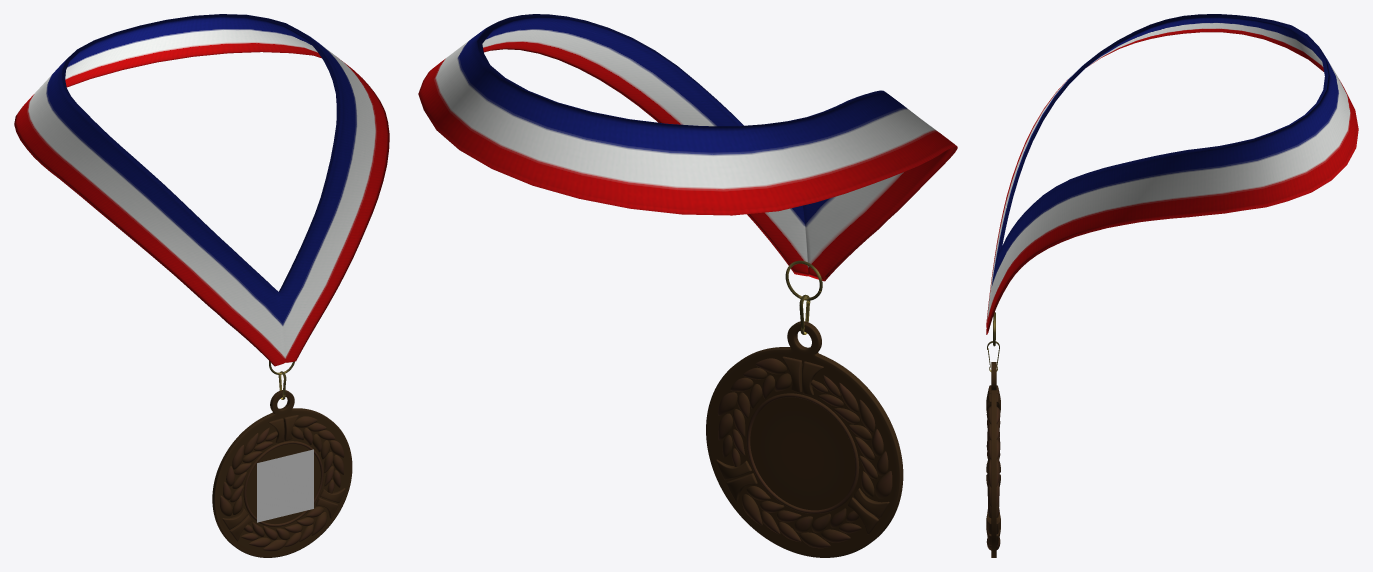
The model's file is medal.fbx.
3 views of the same model, side by side, from view 1: azimuth 30°, elevation 25°; view 2: azimuth 150°, elevation 25°; view 3: azimuth 270°, elevation 25° (orthographic). The views are drawn at different scales.
Visible parts, largest first — view 1: Medal_Ribbon; view 2: Medal_Ribbon; view 3: Medal_Ribbon.
Boxes of the visible parts, x1,y1,x2,y2 form: Medal_Ribbon: (14, 14, 389, 557); Medal_Ribbon: (418, 14, 957, 557); Medal_Ribbon: (986, 14, 1358, 557).
Size of the model in its own units: 1972 by 2396 by 1692.
